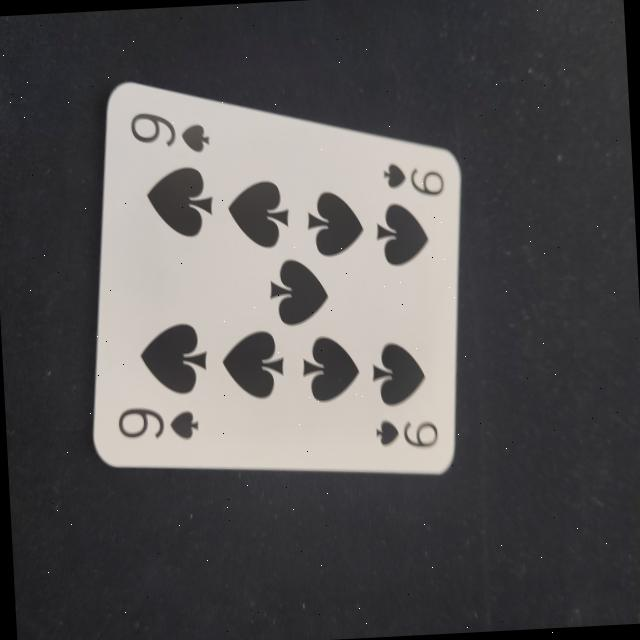9s: (123, 101, 215, 167), (110, 398, 206, 454), (377, 156, 450, 202), (365, 412, 443, 455)
